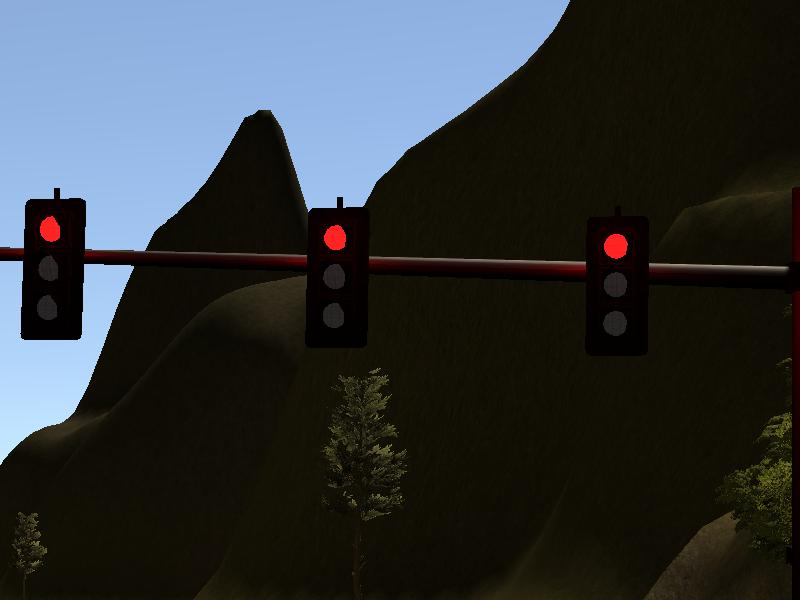Red: (308, 209, 365, 344), (589, 217, 645, 354), (25, 199, 79, 340)
